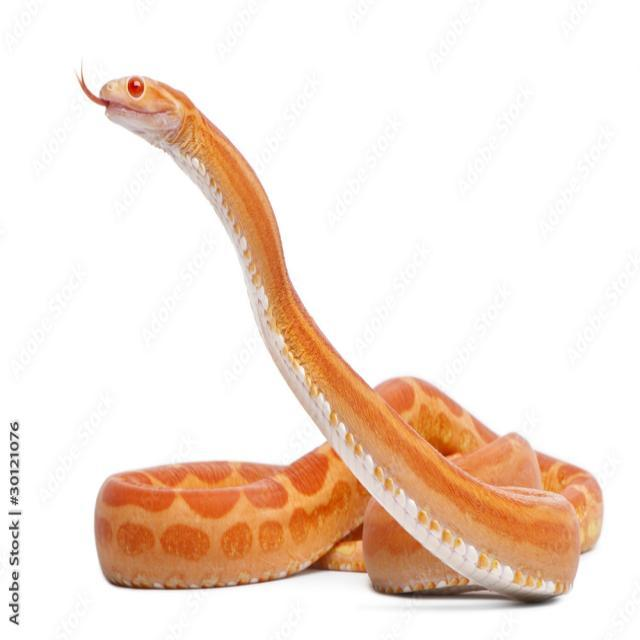Snake: (59, 45, 625, 630)
